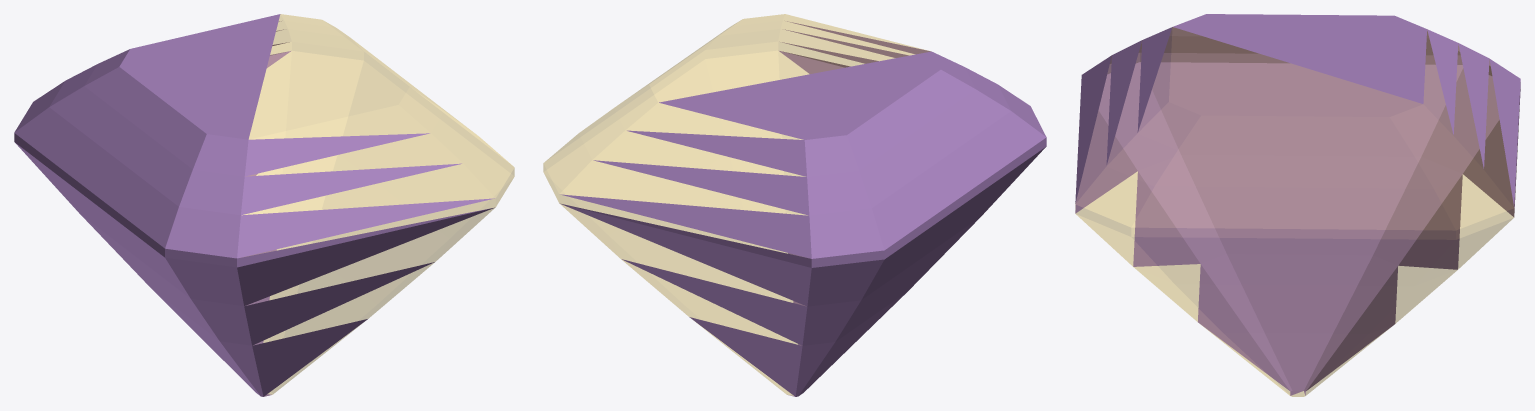
File: jewelry.glb
The picture shows the model from 3 angles, left to right: view 1: azimuth 30°, elevation 25°; view 2: azimuth 150°, elevation 25°; view 3: azimuth 270°, elevation 25°; orthographic projection. The views are drawn at different scales.
Parts seen in each view (by area): view 1: Gemstone Ametrine; view 2: Gemstone Ametrine; view 3: Gemstone Ametrine.
Part boxes in pixels (x1,y1,x2,y2): Gemstone Ametrine: (14, 14, 514, 396); Gemstone Ametrine: (543, 14, 1046, 396); Gemstone Ametrine: (1075, 14, 1520, 396).
Bounding box in the file's own units: 2.03 × 1.75 × 2.15.
